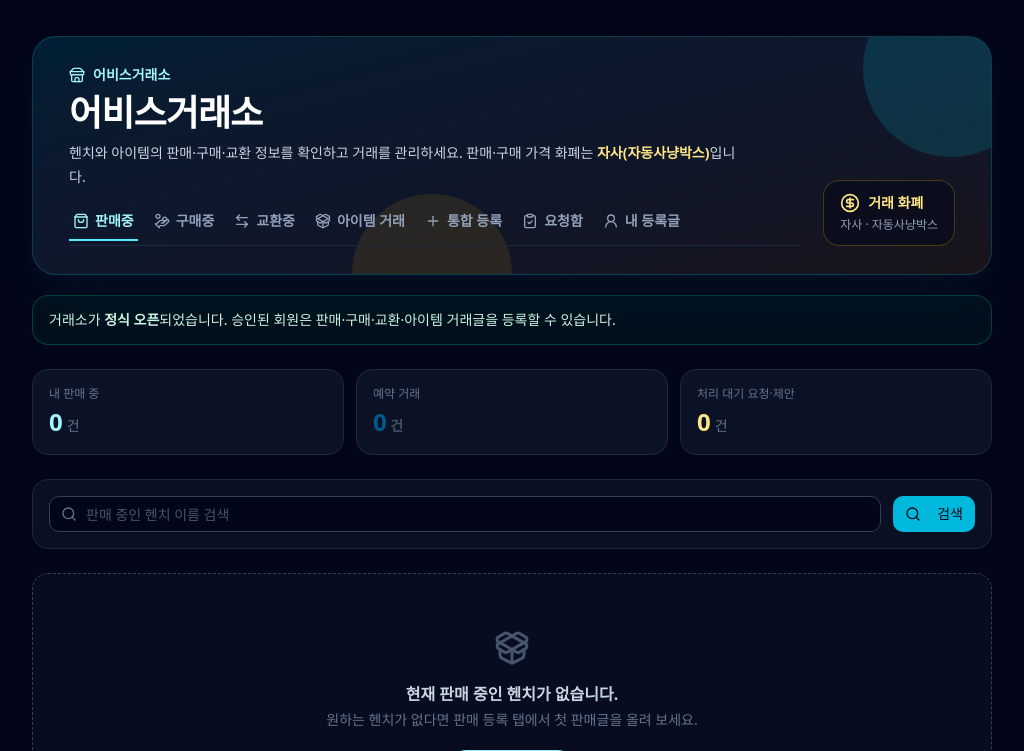
Marketplace › shows the uploaded catalog icon on a matching item trade listing
Check: the text "현재 판매 중인 헨치가 없습니다." is shown, box [406,683,618,705]
Click the button "아이템 거래" at (360, 225), box [311,209,409,241]
(page scrolled)
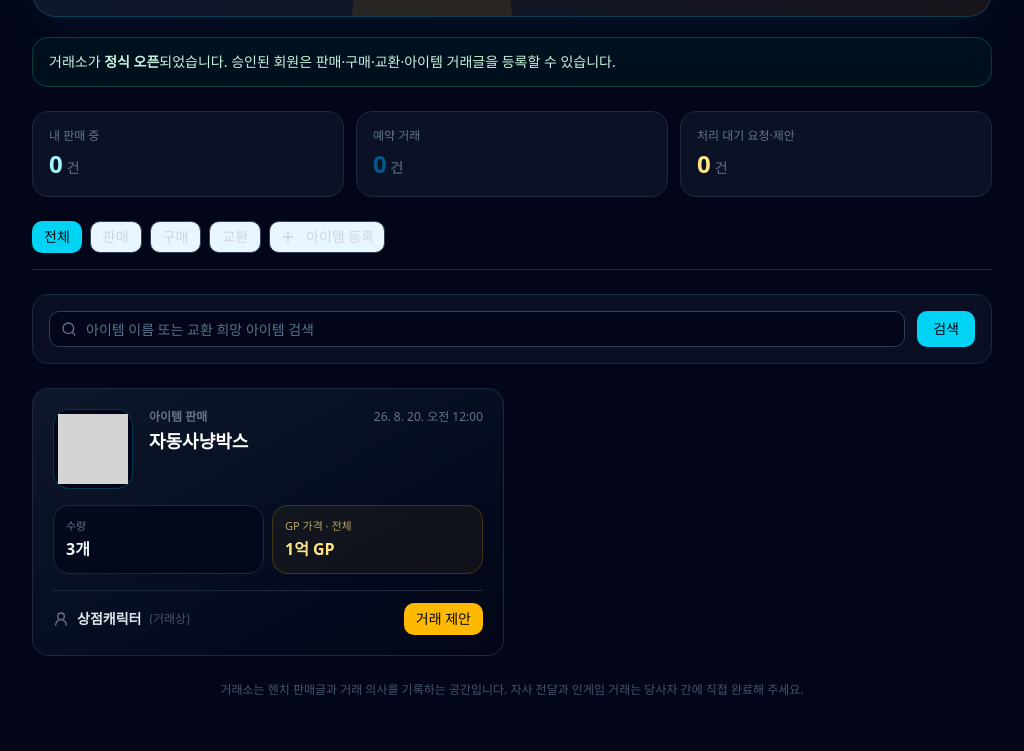
Check: the text "GP 가격 · 전체" is shown, box [285,518,352,533]
Check: the text "1억 GP" is shown, box [285,538,335,560]
